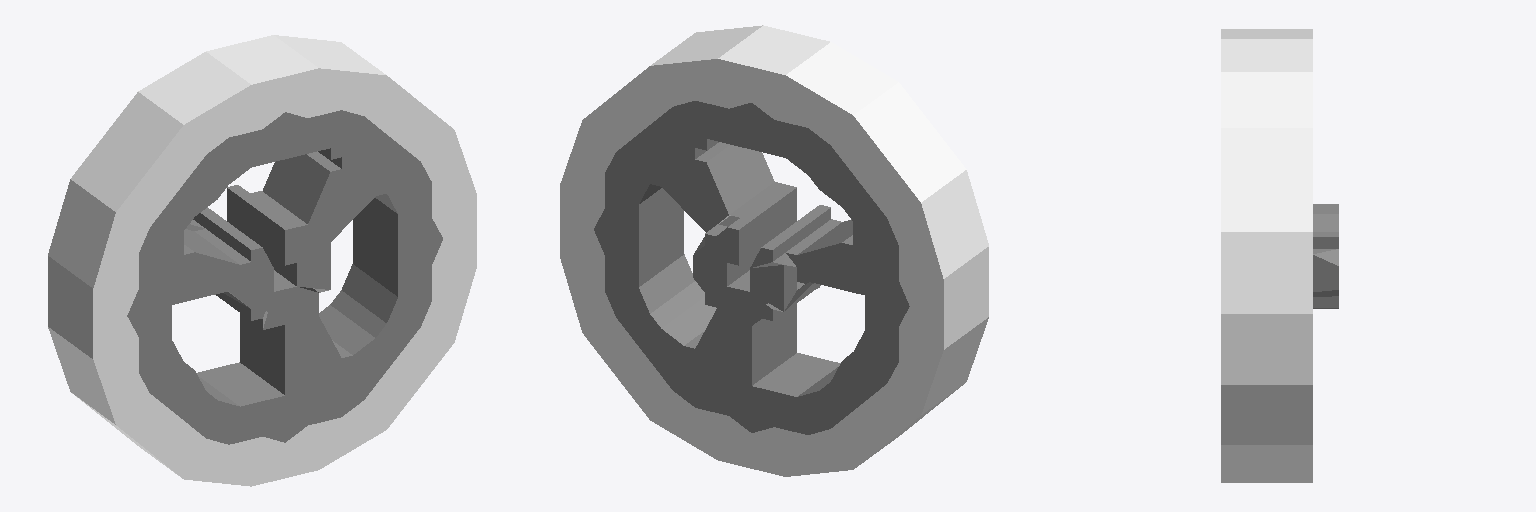
File: wheel_right.obj
The picture shows the model from 3 angles: view 1: azimuth 30°, elevation 25°; view 2: azimuth 150°, elevation 25°; view 3: azimuth 270°, elevation 25°; orthographic projection.
Visible parts, largest first — view 1: Compound; view 2: Compound; view 3: Compound.
Part boxes in pixels (bbox=[...]): Compound: bbox=[48, 35, 476, 486]; Compound: bbox=[560, 25, 988, 476]; Compound: bbox=[1221, 29, 1338, 482].
Bounding box in the file's own units: 0 × 0 × 0.